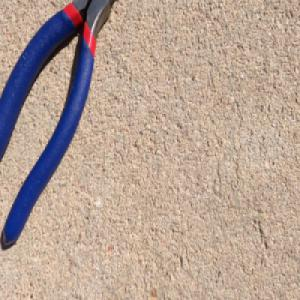Pliers: (0, 0, 115, 247)
